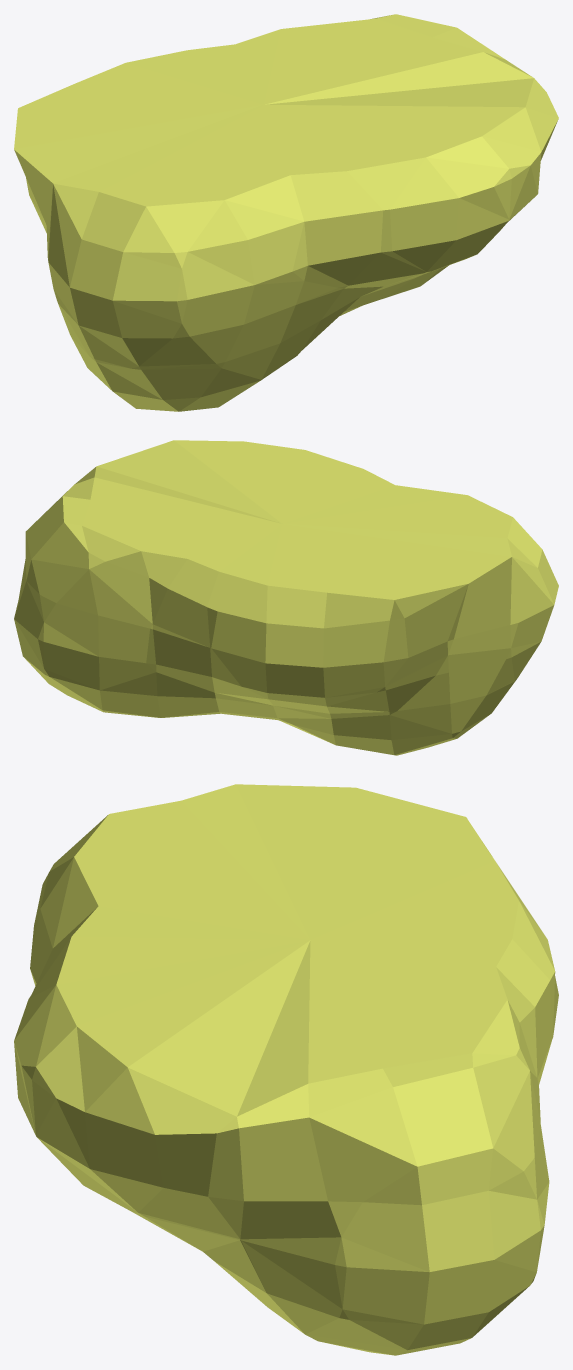
Rendered from tree_leaves.gltf.
3 views of the same model, one above another, from view 1: azimuth 30°, elevation 25°; view 2: azimuth 150°, elevation 25°; view 3: azimuth 270°, elevation 25° (orthographic). The views are drawn at different scales.
Visible parts, largest first — view 1: leaves; view 2: leaves; view 3: leaves.
Boxes of the visible parts, left/top/right/bottom form: leaves: left=14, top=14, right=558, bottom=411; leaves: left=14, top=440, right=558, bottom=755; leaves: left=14, top=784, right=558, bottom=1355.
Size of the model in its own units: 8.65 by 4.05 by 5.88.
